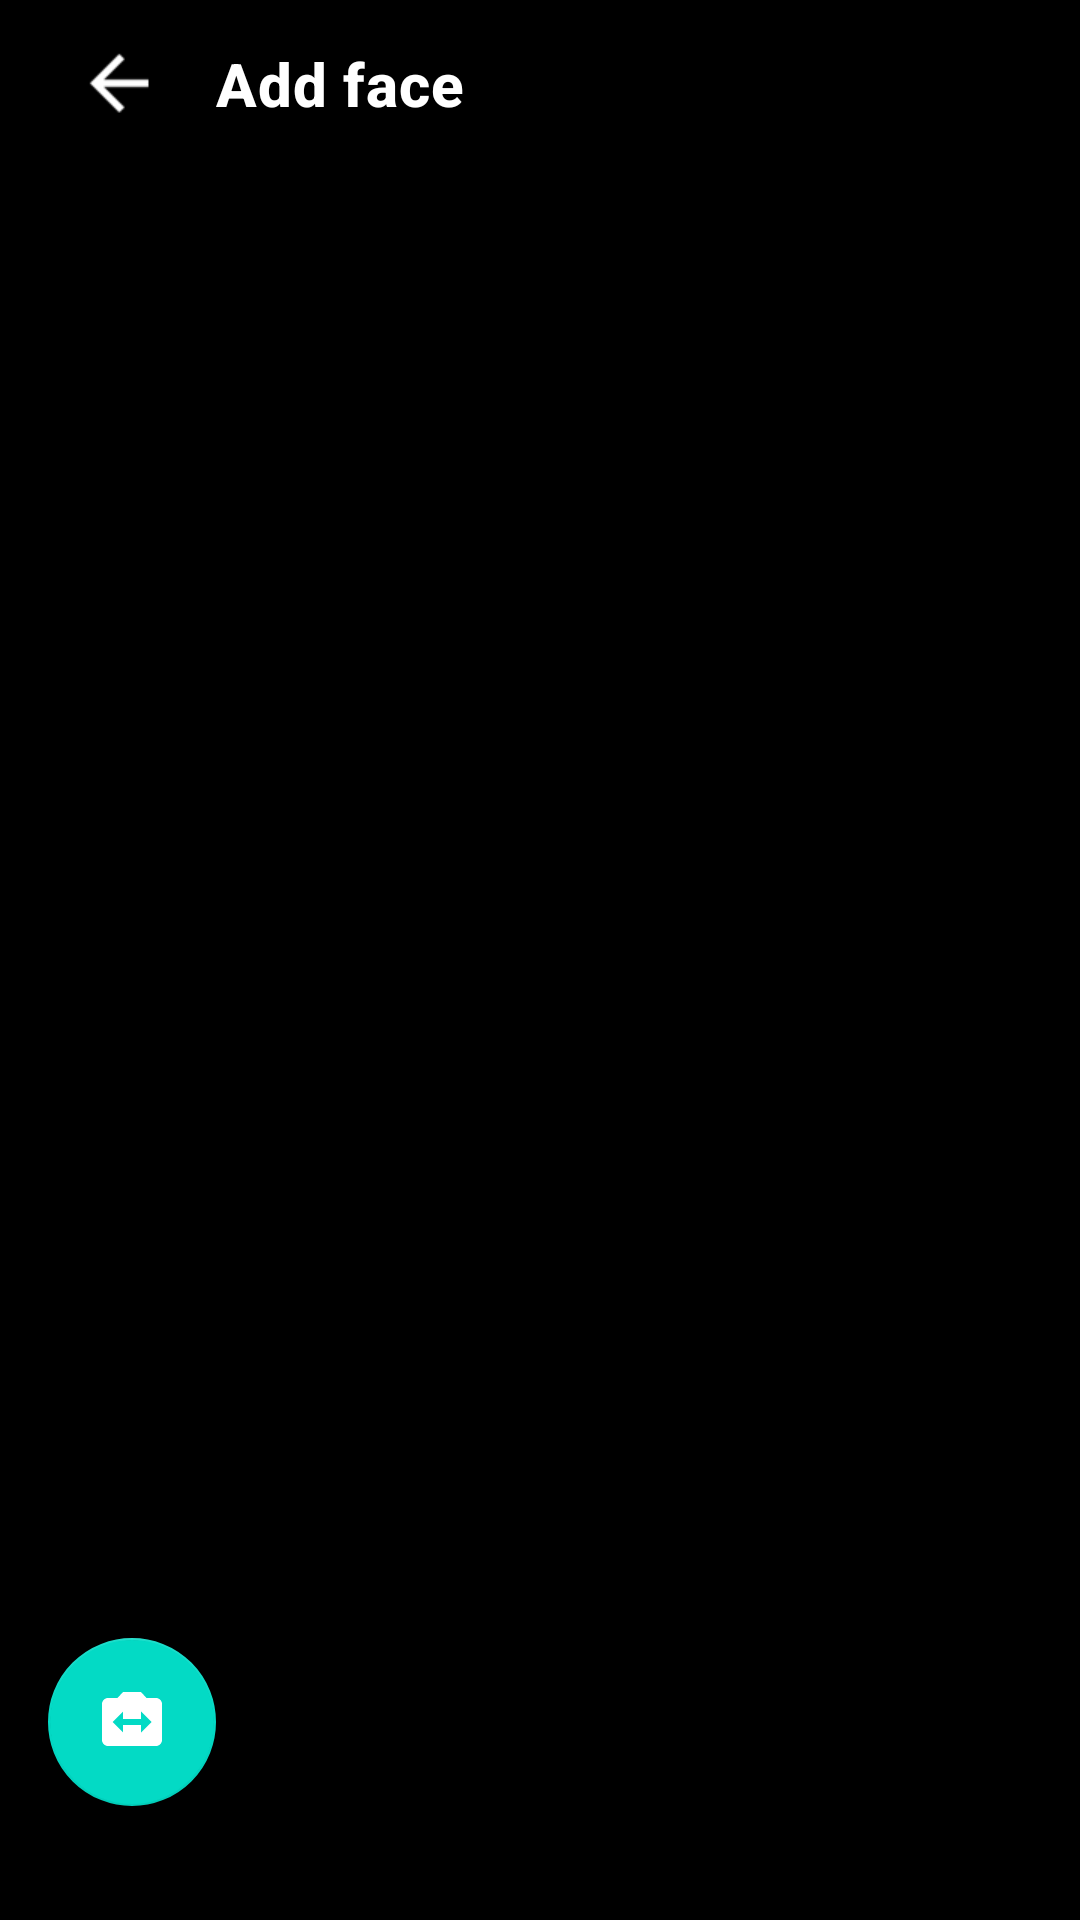

Screen size 1080×1920. Icon name, then its center in pixels as [x,y]:
back arrow: [119,83]
switch camera: [132,1722]
